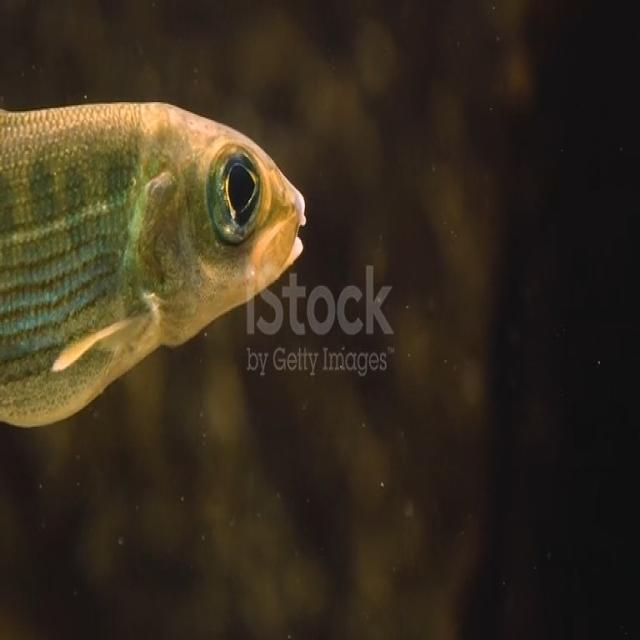fish: (0, 94, 319, 438)
